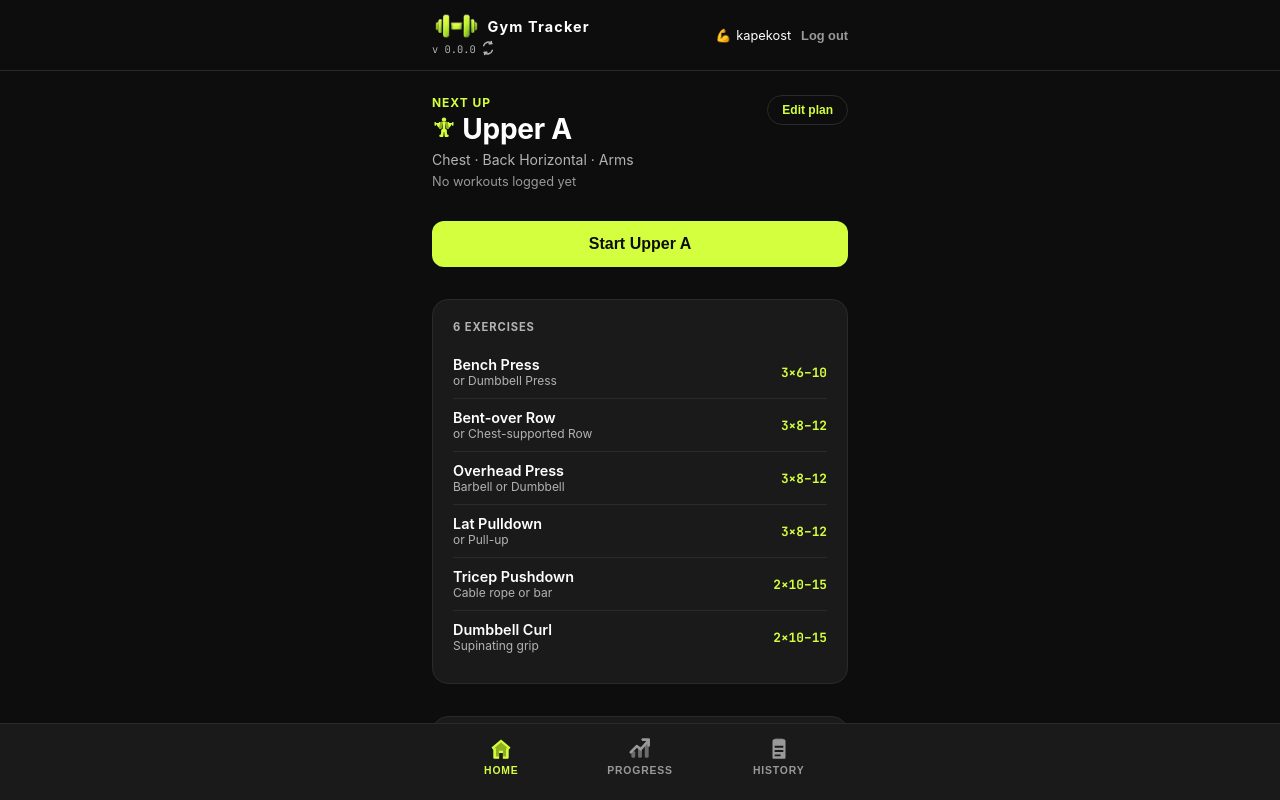
the app with a session › still navigates between screens
This screenshot has width=1280, height=800.
Check: the text "Next up" is shown, box [432,95,491,110]
Click the button "History".
click(779, 756)  # box [709,732,848,780]
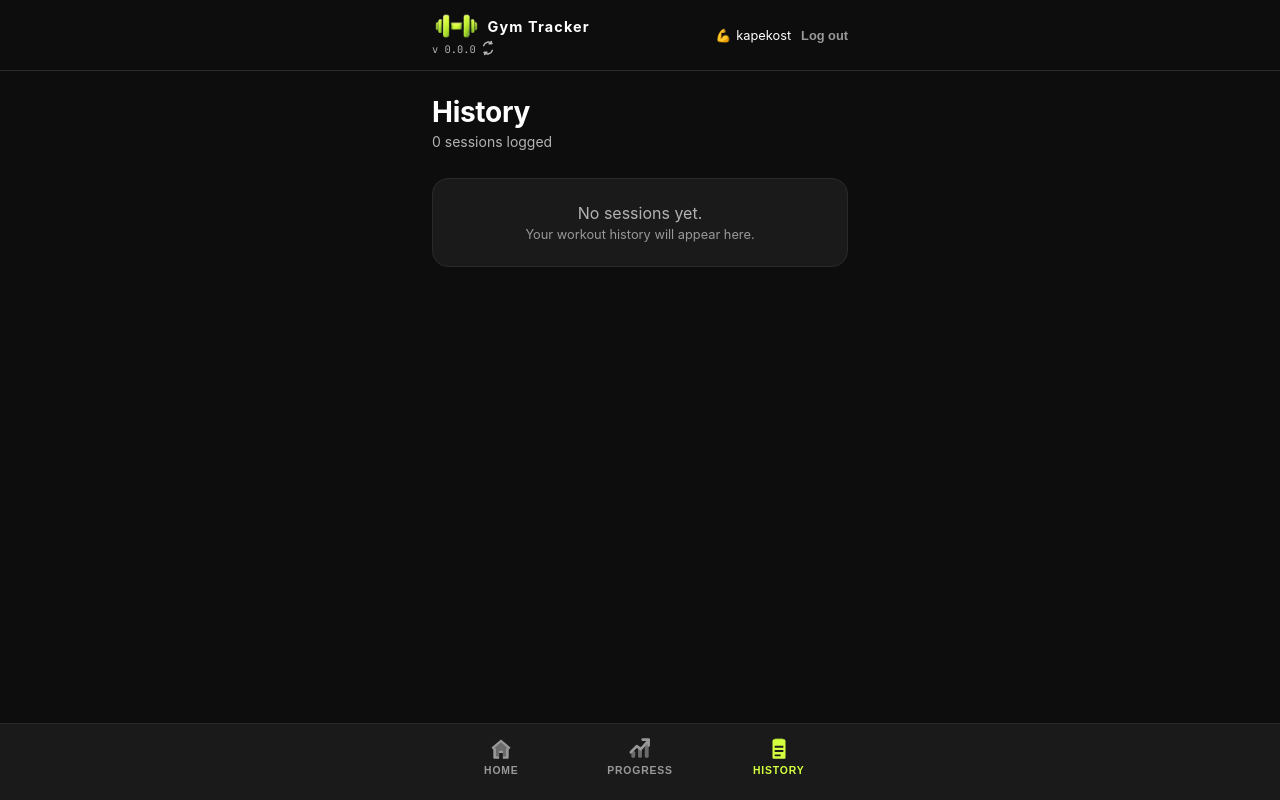
Check: the heading "History" is shown, box [432,95,530,129]
